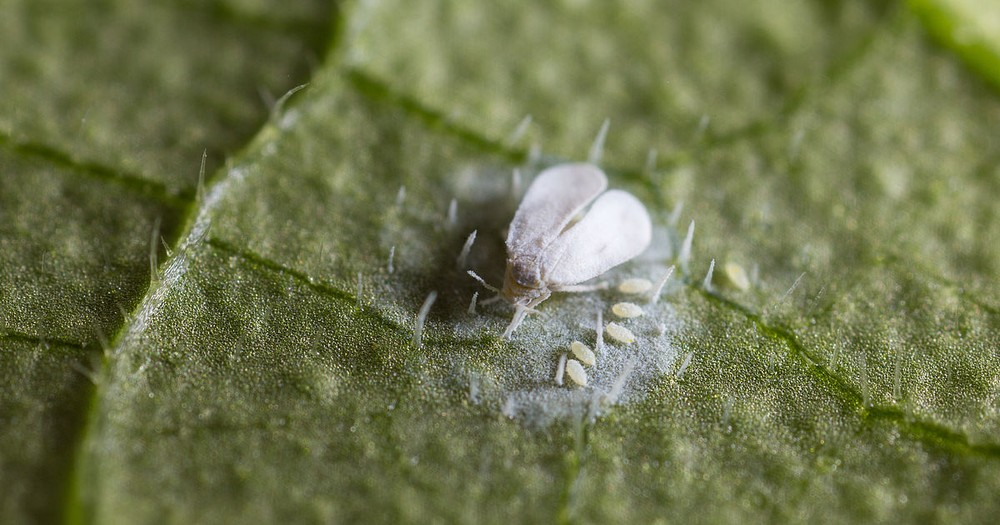Mosca Blanca: (455, 141, 655, 352)
